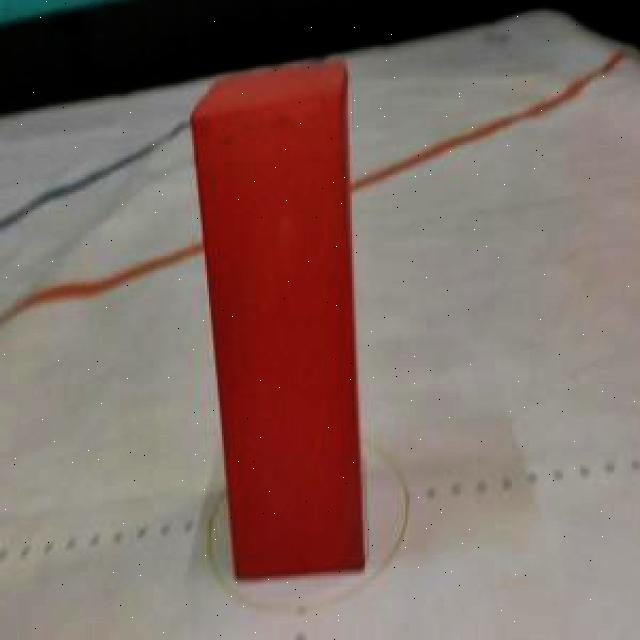redbox: (188, 64, 367, 586)
